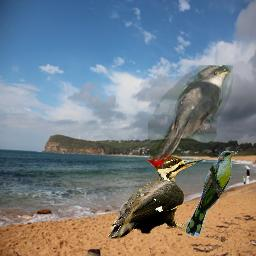Cuckoo: (148, 65, 233, 165), (186, 151, 238, 236)
Woodpecker: (108, 155, 204, 239)
